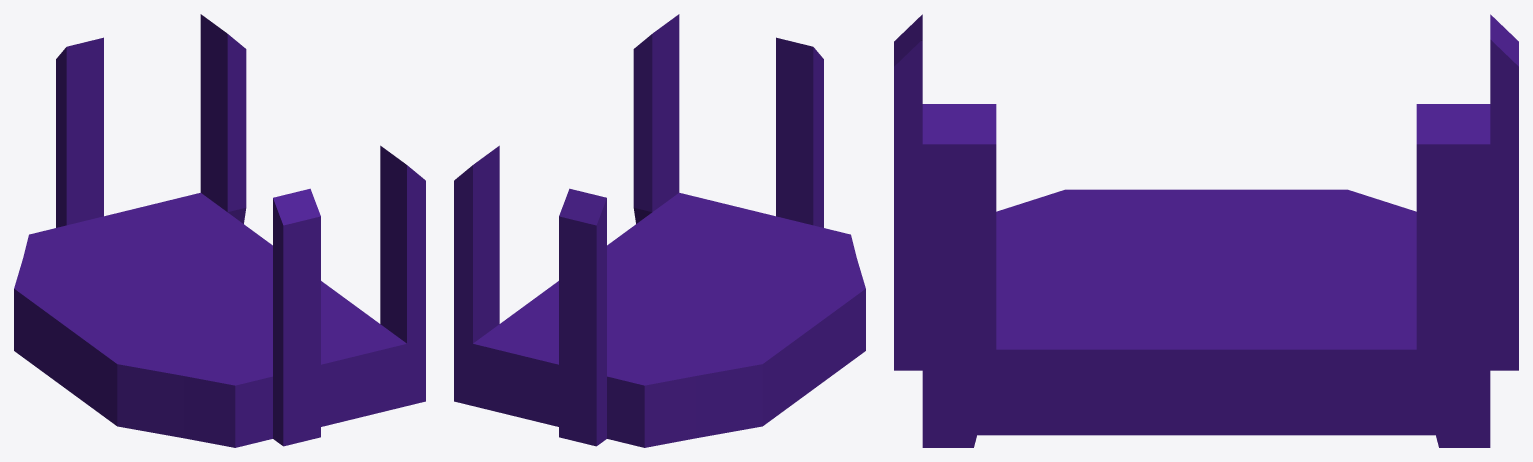
Rendered from Router_Box-WarRoom.glb.
3 views of the same model, side by side, from view 1: azimuth 30°, elevation 25°; view 2: azimuth 150°, elevation 25°; view 3: azimuth 270°, elevation 25° (orthographic). The views are drawn at different scales.
Visible parts, largest first — view 1: Router_box; view 2: Router_box; view 3: Router_box.
Part boxes in pixels (<box>): Router_box: <box>14,14,425,447</box>; Router_box: <box>454,14,865,447</box>; Router_box: <box>894,14,1518,447</box>.
Bounding box in the file's own units: 0.2777 × 0.2488 × 0.4253.
1 material, 1 textured.
